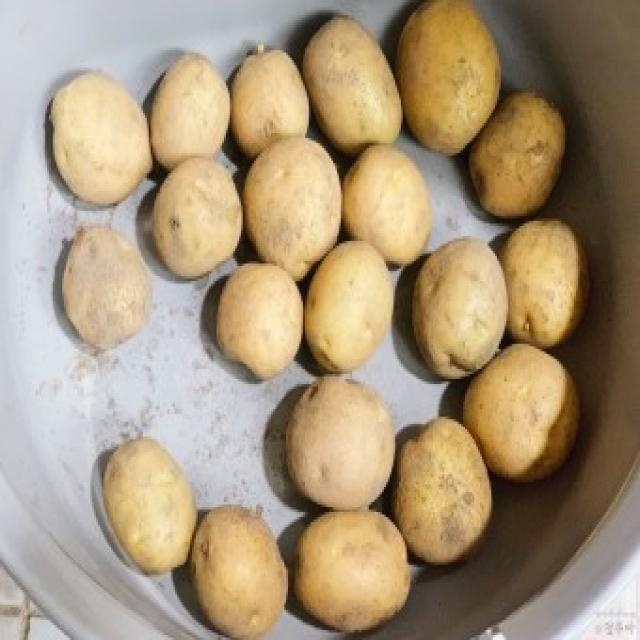potato: (395, 1, 505, 160), (464, 338, 579, 488), (290, 497, 412, 636), (281, 370, 398, 514), (238, 129, 346, 283), (393, 414, 496, 568), (410, 235, 518, 380), (302, 12, 404, 154), (102, 430, 201, 576), (48, 70, 154, 206), (470, 86, 570, 225), (300, 235, 398, 374), (191, 504, 290, 640), (56, 221, 155, 354), (500, 216, 592, 352), (146, 156, 245, 282), (334, 140, 434, 264), (210, 255, 308, 378), (225, 40, 312, 164), (146, 50, 232, 172)
